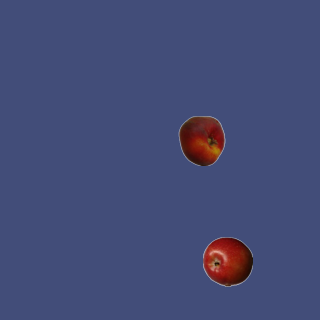Apple Braeburn: (202, 236, 252, 286)
Nectarine Flat: (176, 115, 226, 165)
